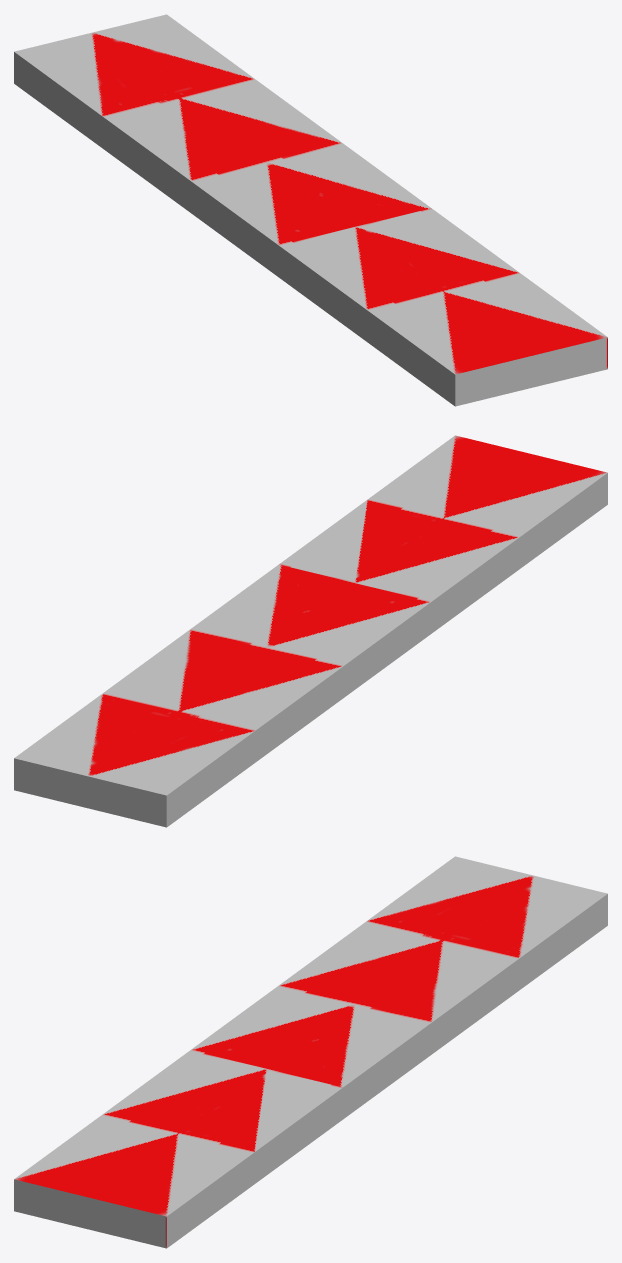
Rendered from Left-Move.obj.
3 views of the same model, one above another, from view 1: azimuth 30°, elevation 25°; view 2: azimuth 150°, elevation 25°; view 3: azimuth 330°, elevation 25° (orthographic).
Parts seen in each view (by area): view 1: Cube; view 2: Cube; view 3: Cube.
Boxes of the visible parts, x1,y1,x2,y2 form: Cube: (14, 14, 607, 406); Cube: (14, 435, 607, 827); Cube: (14, 856, 607, 1248).
Bounding box in the file's own units: 2 × 0.4 × 10.
Materials: 1 (1 with a texture image).
